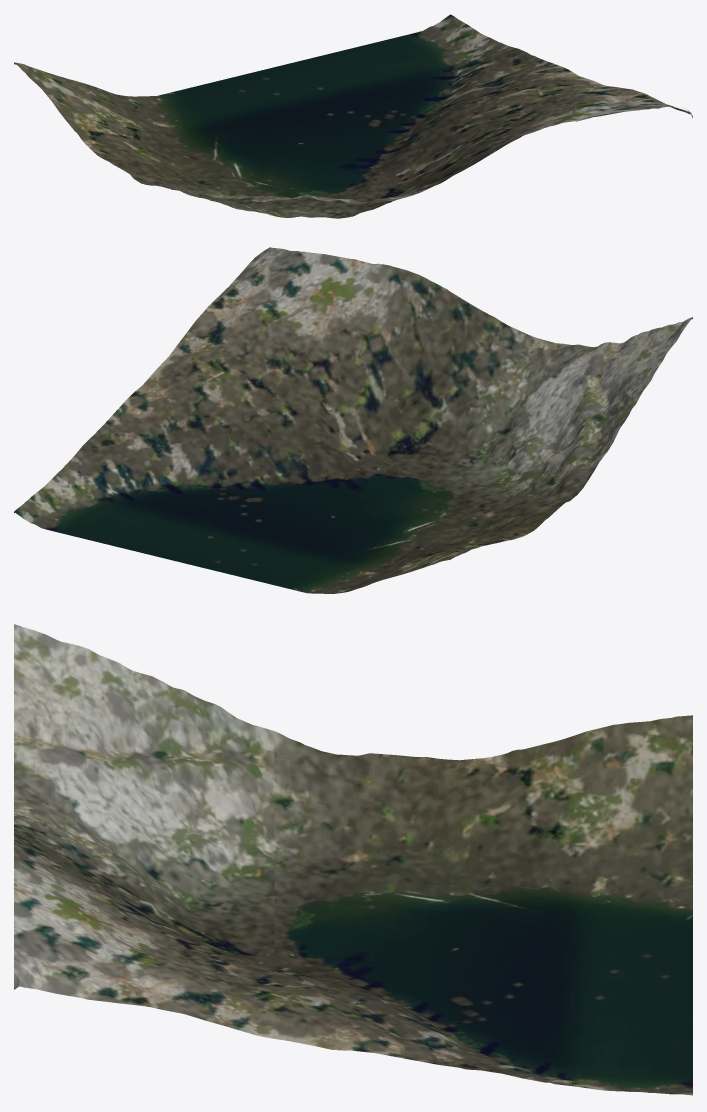
3 renders of one model, top to bottom at view 1: azimuth 30°, elevation 25°; view 2: azimuth 150°, elevation 25°; view 3: azimuth 270°, elevation 25°, orthographic. The views are drawn at different scales.
Size of the model in its own units: 250 by 74.15 by 241.
1 material, 1 textured.
